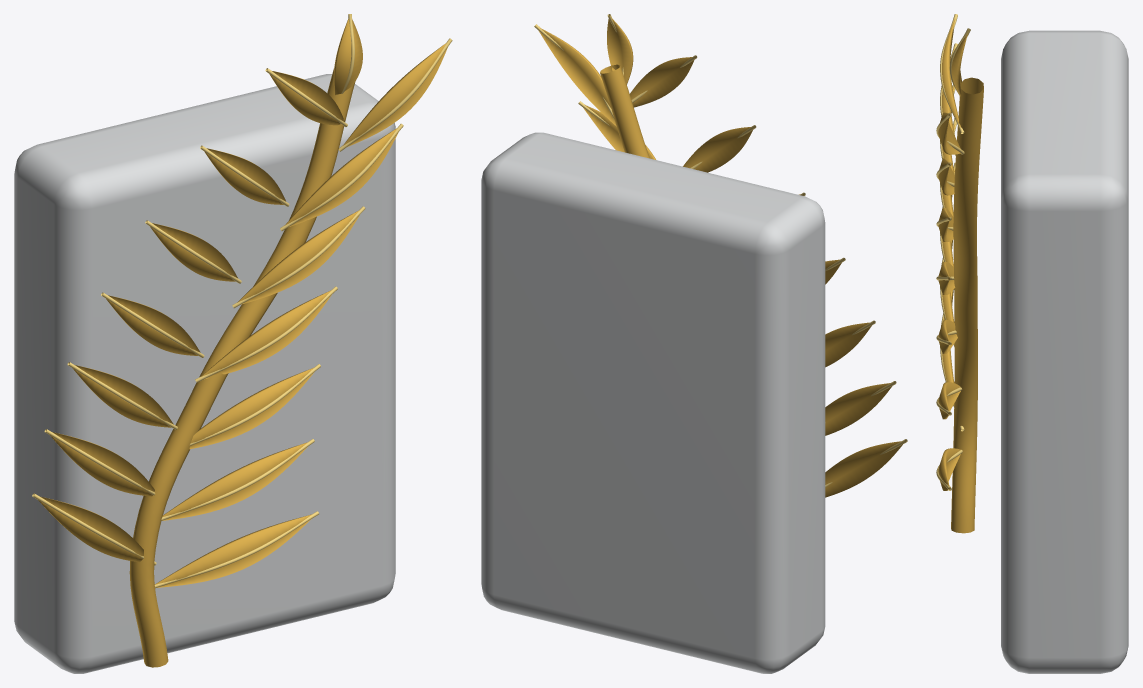
File: palme.glb
3 views of the same model, side by side, from view 1: azimuth 30°, elevation 25°; view 2: azimuth 150°, elevation 25°; view 3: azimuth 270°, elevation 25° (orthographic). The views are drawn at different scales.
Visible parts, largest first — view 1: Cut crystal, palm__Satin gold, palm__Gold ridges; view 2: Cut crystal, palm__Satin gold, palm__Gold ridges; view 3: Cut crystal, palm__Satin gold, palm__Gold ridges.
Boxes of the visible parts, x1=… form: Cut crystal: x1=14, y1=74, x2=395, y2=673; palm__Satin gold: x1=38, y1=18, x2=447, y2=667; palm__Gold ridges: x1=32, y1=14, x2=452, y2=588; Cut crystal: x1=481, y1=132, x2=825, y2=673; palm__Satin gold: x1=539, y1=15, x2=905, y2=497; palm__Gold ridges: x1=534, y1=14, x2=907, y2=487; Cut crystal: x1=1001, y1=30, x2=1128, y2=673; palm__Satin gold: x1=938, y1=18, x2=983, y2=533; palm__Gold ridges: x1=936, y1=14, x2=970, y2=490.
Bounding box in the file's own units: 1.5 × 2.14 × 0.6027.
